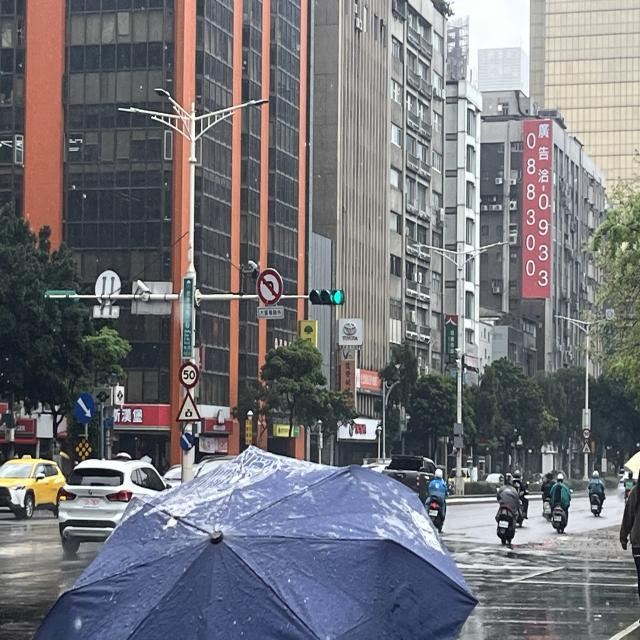green light: (310, 290, 344, 308)
